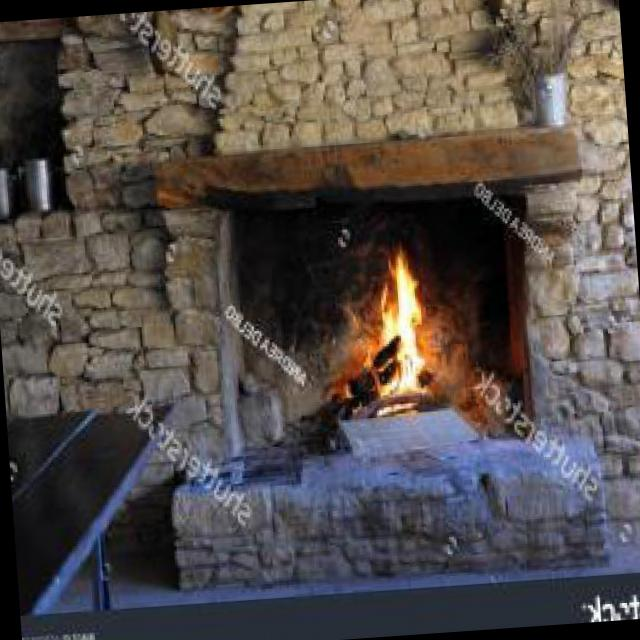fire: (348, 238, 436, 418)
